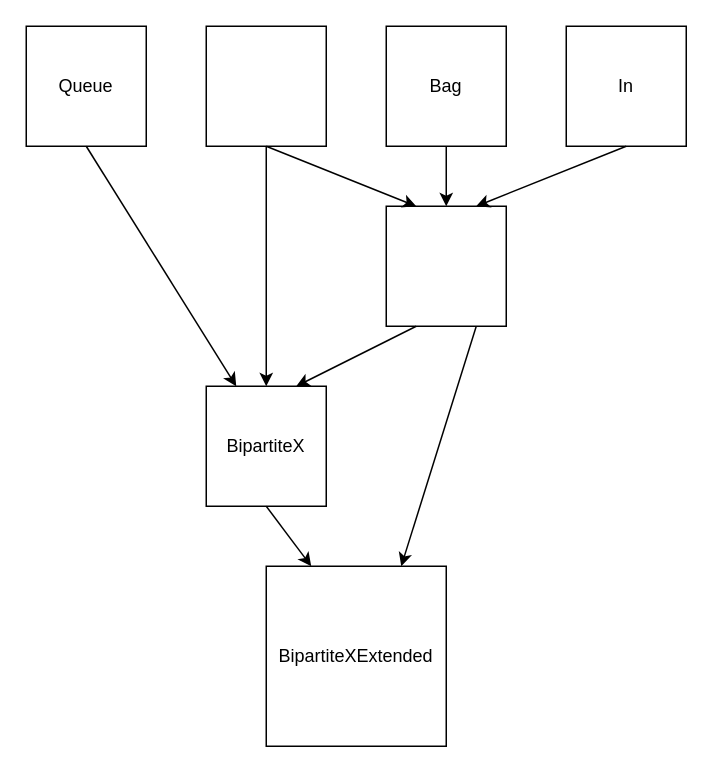
Image size: 713x773. Some labels were removed from this diagram. Here are the shapes that lost their labels. From the top down, the centre of each, then its label:
[265,85]: Stack
[445,265]: Graph
